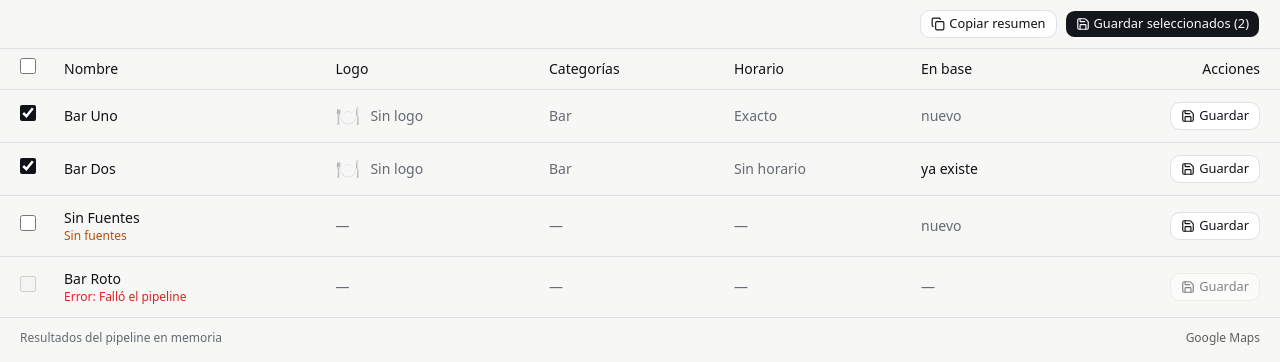
ProcessedPlacesPanel › guarda los seleccionados en un solo POST y actualiza la columna y el resumen
Check: the text "ya existe" is shown, box [921, 158, 978, 178]
Click the checkbox named "Seleccionar Sin Fuentes" at (28, 223), box [20, 215, 36, 231]
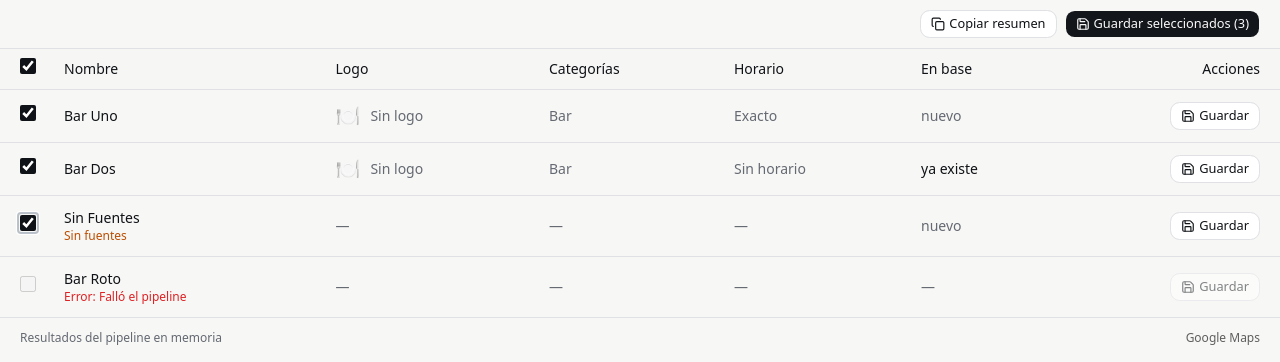
Click the button "Guardar seleccionados (3)" at (1162, 24), box [1064, 10, 1260, 38]
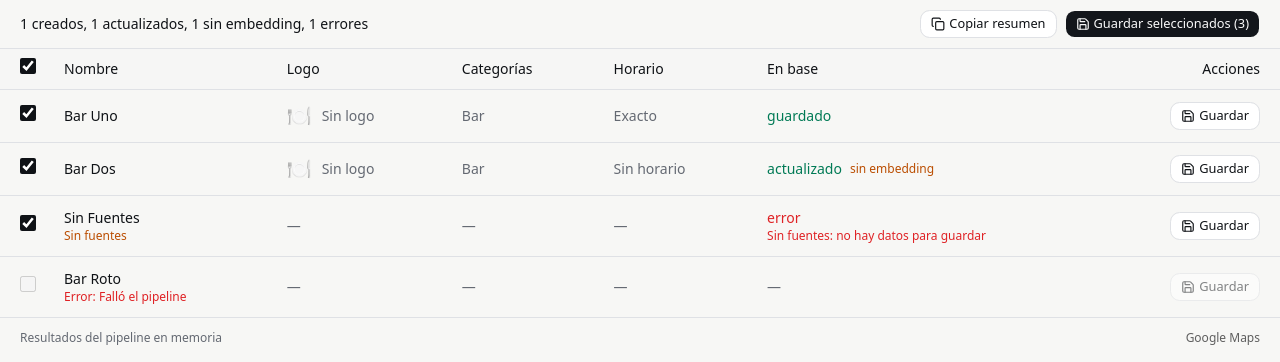
Check: the text "1 creados, 1 actualizados, 1 sin embedding, 1 errores" is shown, box [20, 14, 368, 33]
Check: the text "guardado" is shown, box [767, 106, 831, 126]
Check: the text "actualizado" is shown, box [767, 158, 842, 178]
